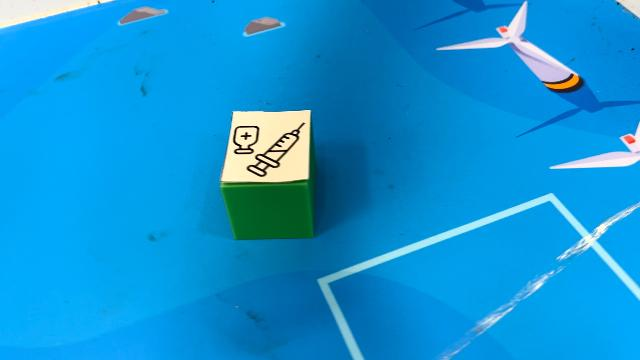syringe: (220, 110, 316, 240)
